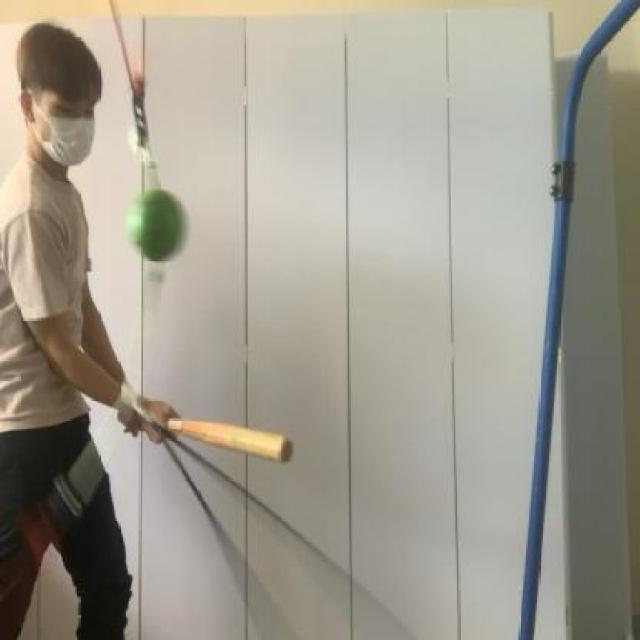baseball: (124, 179, 188, 270)
